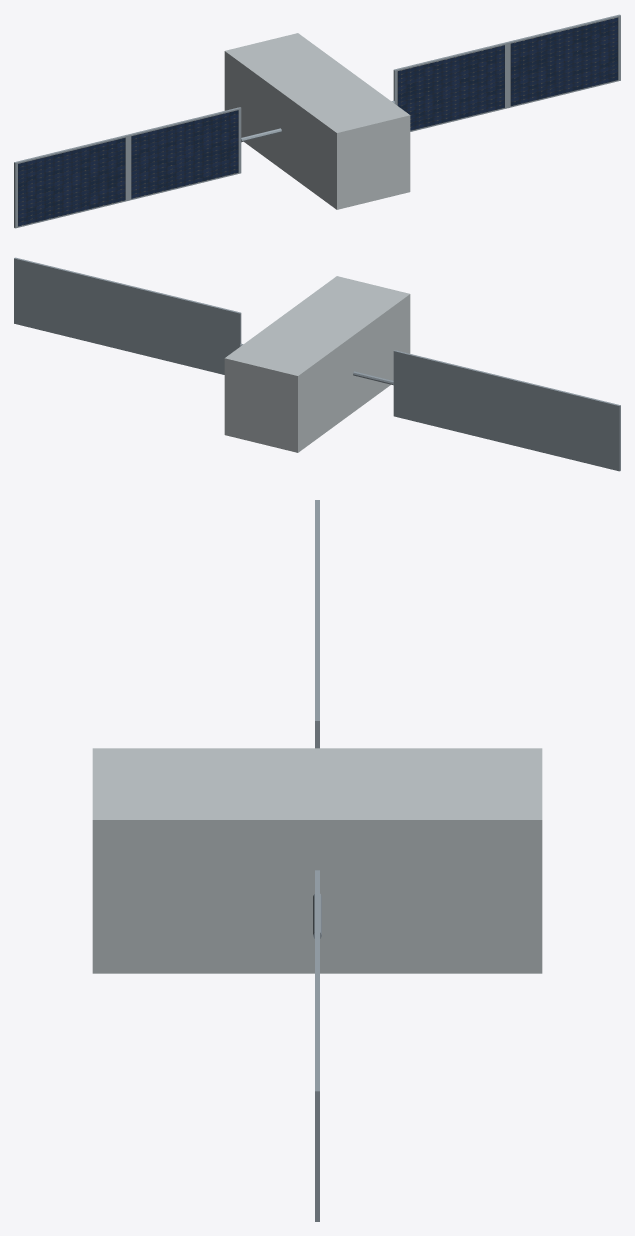
Rendered from ref-gosat-33492.glb.
The picture shows the model from 3 angles, top to bottom: view 1: azimuth 30°, elevation 25°; view 2: azimuth 150°, elevation 25°; view 3: azimuth 270°, elevation 25°; orthographic projection. The views are drawn at different scales.
Visible parts, largest first — view 1: Photovoltaic laminates (×4), Spacecraft body, Array frame (×4); view 2: Array frame (×4), Spacecraft body; view 3: Spacecraft body, Array frame.
Part boxes in pixels (left/top/right/bottom): Photovoltaic laminates (×4): left=18, top=17, right=618, bottom=226; Spacecraft body: left=224, top=33, right=410, bottom=209; Array frame (×4): left=14, top=14, right=620, bottom=228; Array frame (×4): left=14, top=257, right=620, bottom=471; Spacecraft body: left=224, top=276, right=410, bottom=452; Spacecraft body: left=92, top=748, right=542, bottom=973; Array frame: left=315, top=981, right=319, bottom=1221.
Size of the model in its own units: 16.5 by 2 by 5.3.
3 materials, 1 textured.
